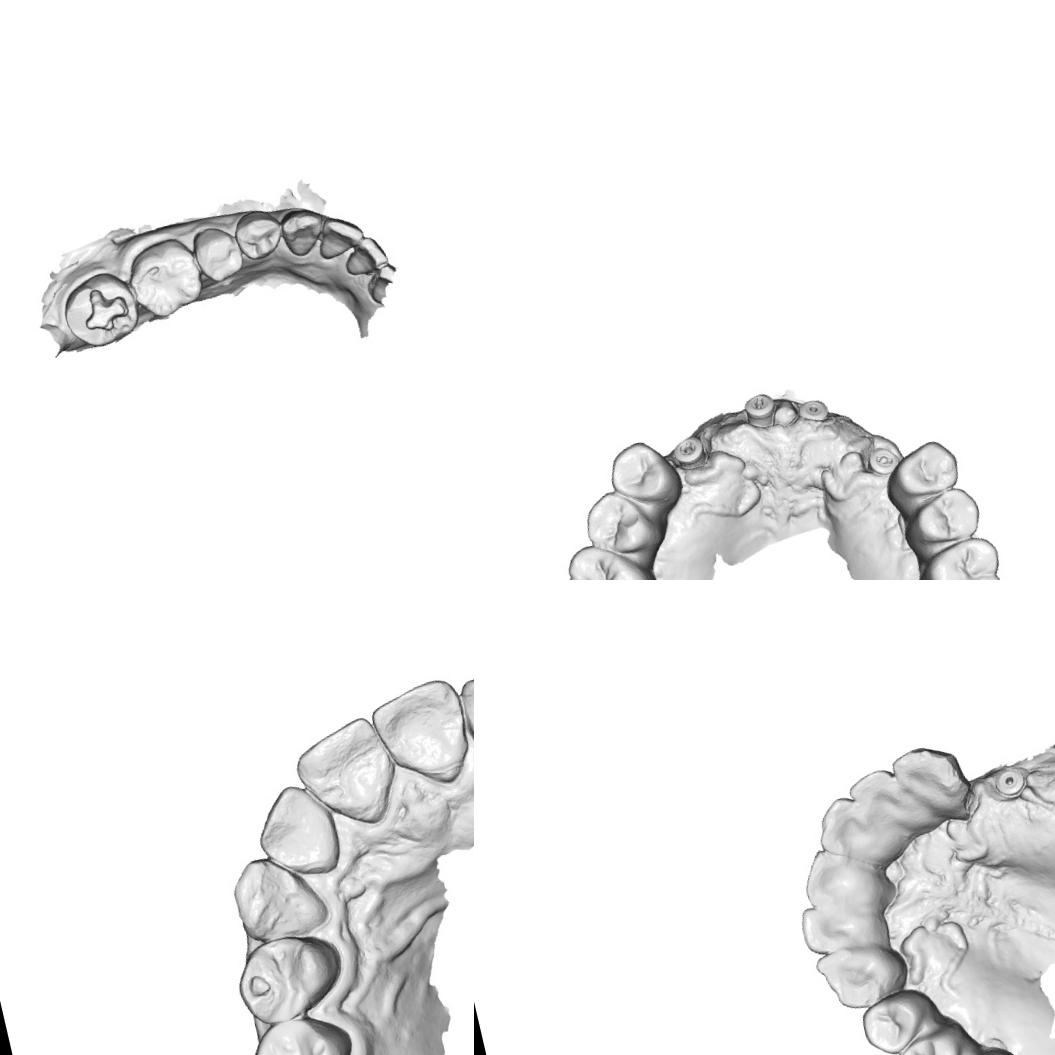canine: (224, 844, 331, 951), (811, 934, 916, 1018), (888, 738, 978, 834), (276, 202, 329, 262)
implant: (990, 764, 1030, 801), (794, 394, 834, 428)
implant_minus: (739, 389, 782, 434), (861, 442, 904, 481)
implant_plus: (660, 422, 714, 479)
incisor: (285, 712, 406, 839), (363, 671, 474, 797), (248, 775, 346, 887), (794, 833, 902, 927), (810, 788, 893, 880), (794, 889, 892, 959), (844, 762, 920, 852), (310, 208, 369, 262), (338, 232, 390, 278), (364, 262, 402, 308)
inlay: (73, 281, 136, 341)
molar: (120, 232, 209, 324), (553, 531, 667, 580), (908, 529, 1014, 580)
premolar: (230, 924, 348, 1028), (894, 481, 988, 560), (576, 482, 662, 567), (876, 434, 966, 515), (603, 433, 688, 518), (855, 983, 945, 1055), (244, 1006, 363, 1055), (187, 220, 246, 288), (230, 204, 287, 264), (889, 1017, 978, 1055)
